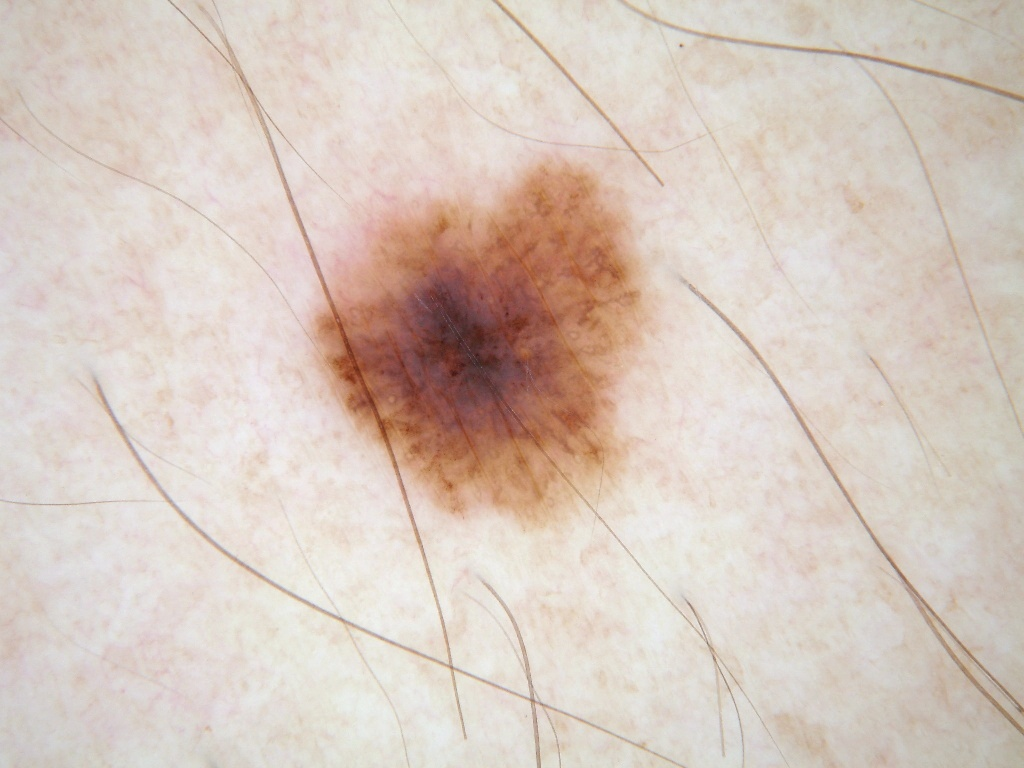Detected Lesion: (310, 148, 671, 534)
